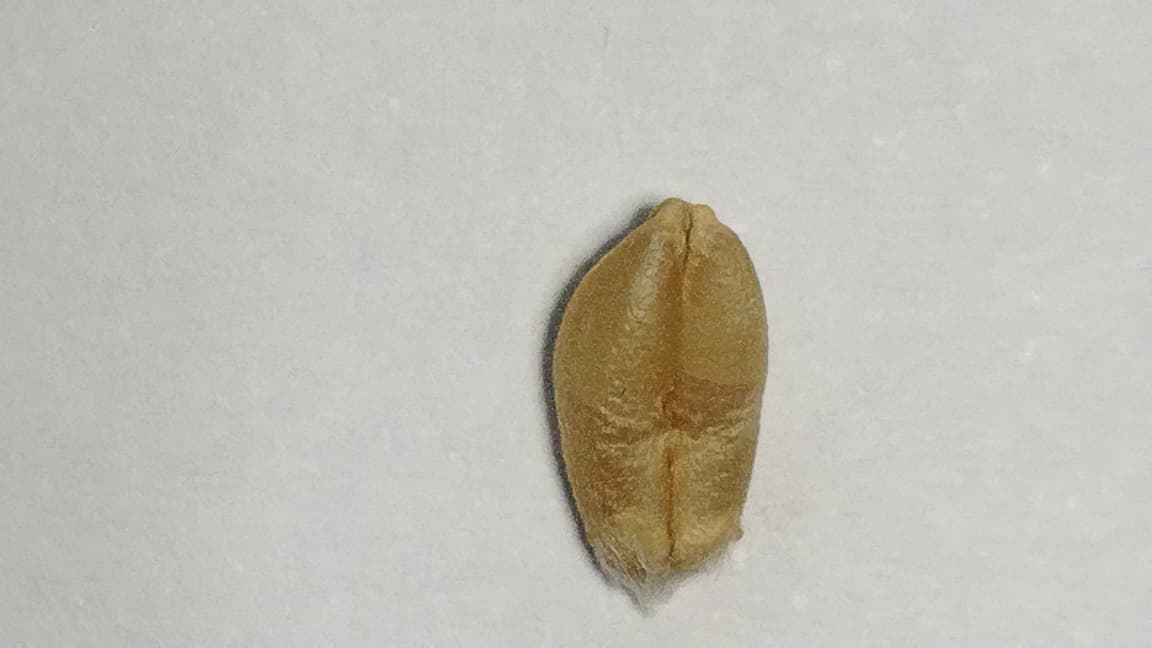healthy: (554, 207, 765, 572)
